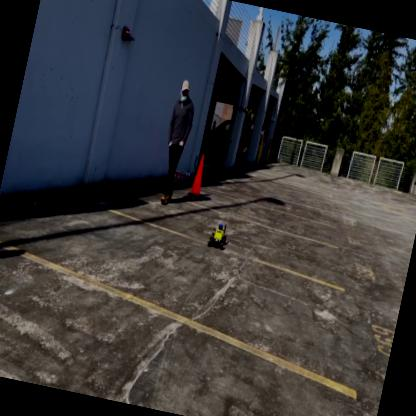cone: (188, 148, 210, 198)
mushr_car: (206, 220, 230, 254)
